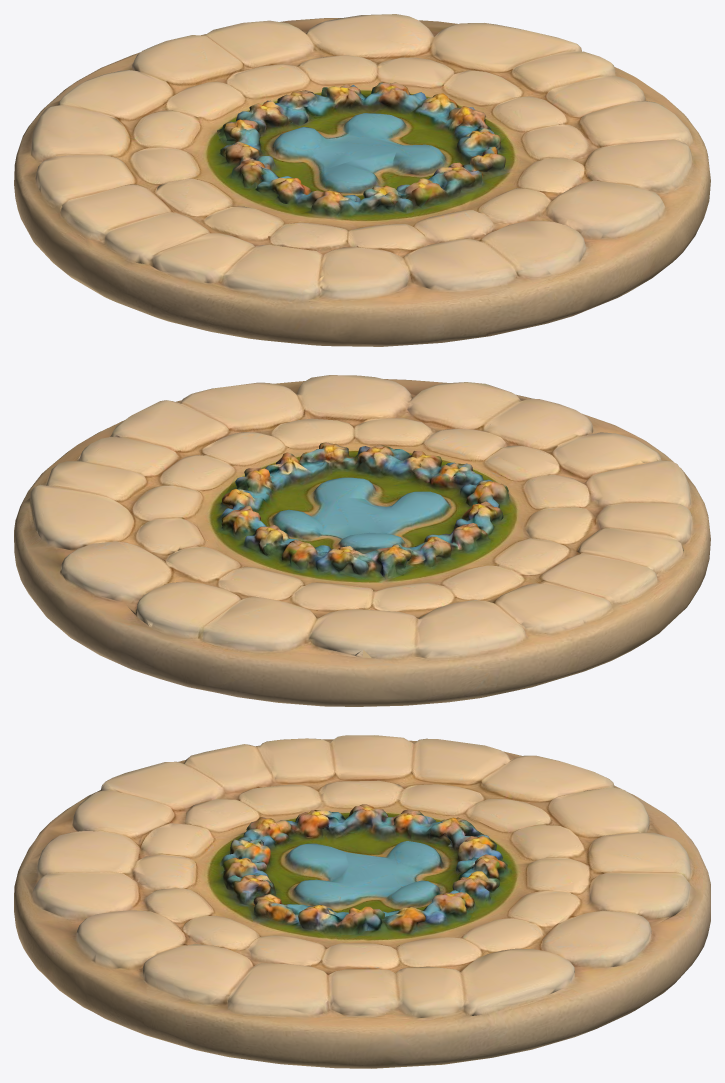
Rendered from facility-plaza-circle.glb.
3 renders of one model, top to bottom at view 1: azimuth 30°, elevation 25°; view 2: azimuth 150°, elevation 25°; view 3: azimuth 270°, elevation 25°, orthographic.
Visible parts, largest first — view 1: Mesh_0; view 2: Mesh_0; view 3: Mesh_0.
Part boxes in pixels (left/top/right/bottom): Mesh_0: left=14, top=14, right=710, bottom=346; Mesh_0: left=14, top=375, right=710, bottom=706; Mesh_0: left=14, top=735, right=710, bottom=1068.
Size of the model in its own units: 2 by 0.2306 by 2.
1 material, 1 textured.
